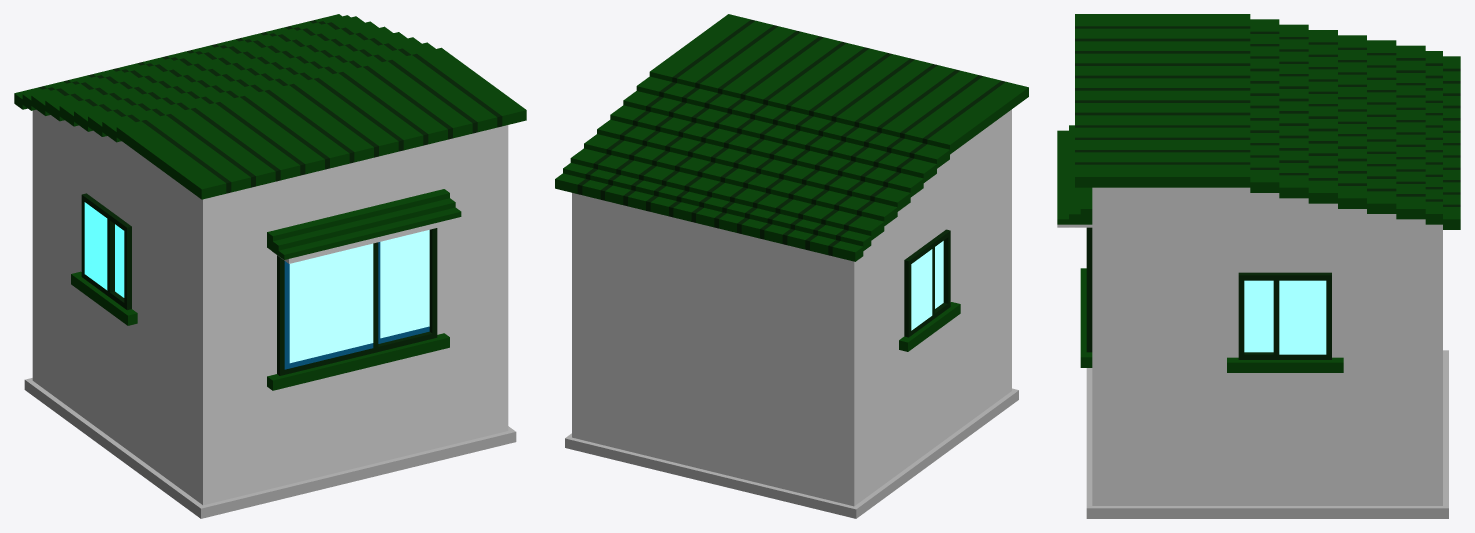
File: typeEighteen.glb
3 renders of one model, left to right at view 1: azimuth 30°, elevation 25°; view 2: azimuth 150°, elevation 25°; view 3: azimuth 270°, elevation 25°, orthographic. The views are drawn at different scales.
Visible parts, largest first — view 1: ObjObject; view 2: ObjObject; view 3: ObjObject.
Part boxes in pixels (x1,y1,x2,y2): ObjObject: (14,14,526,518); ObjObject: (555,14,1028,518); ObjObject: (1057,14,1460,518).
Size of the model in its own units: 6.6 by 6.5 by 6.9.
Materials: 3 (1 with a texture image).
